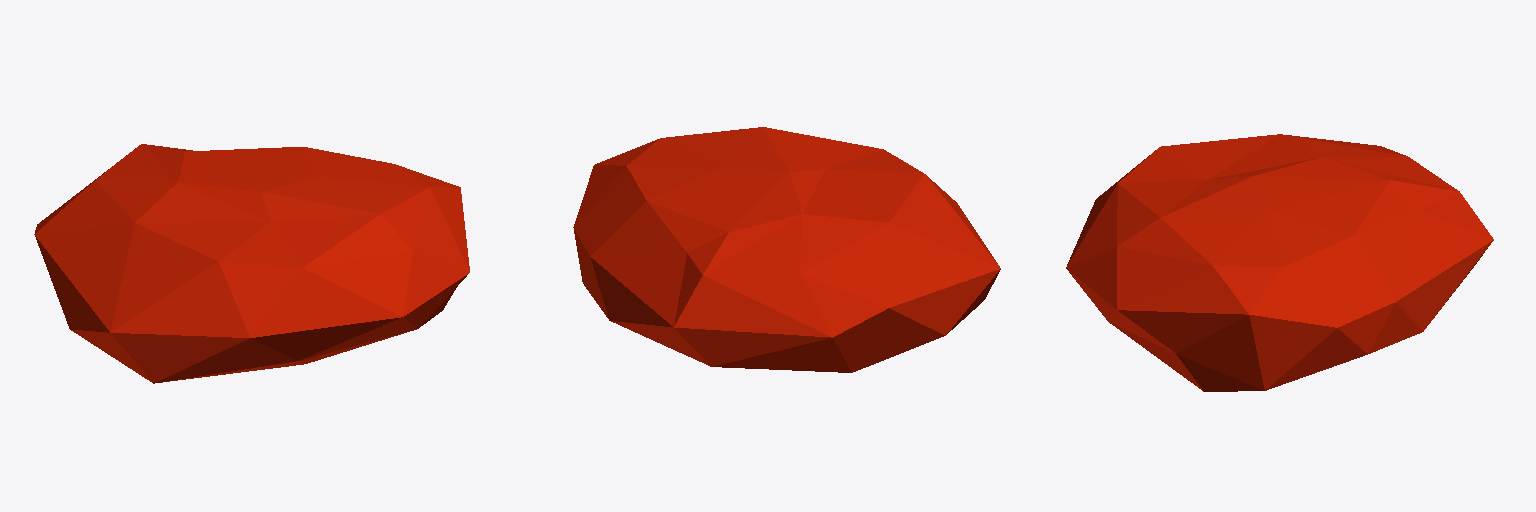
Rendered from dirt_patch.obj.
3 views of the same model, side by side, from view 1: azimuth 30°, elevation 25°; view 2: azimuth 150°, elevation 25°; view 3: azimuth 270°, elevation 25° (orthographic).
Visible parts, largest first — view 1: DirtPatch; view 2: DirtPatch; view 3: DirtPatch.
Boxes of the visible parts, x1,y1,x2,y2 form: DirtPatch: [34, 144, 469, 383]; DirtPatch: [573, 127, 1000, 372]; DirtPatch: [1066, 134, 1493, 391].
Size of the model in its own units: 4.36 by 1.67 by 4.27.